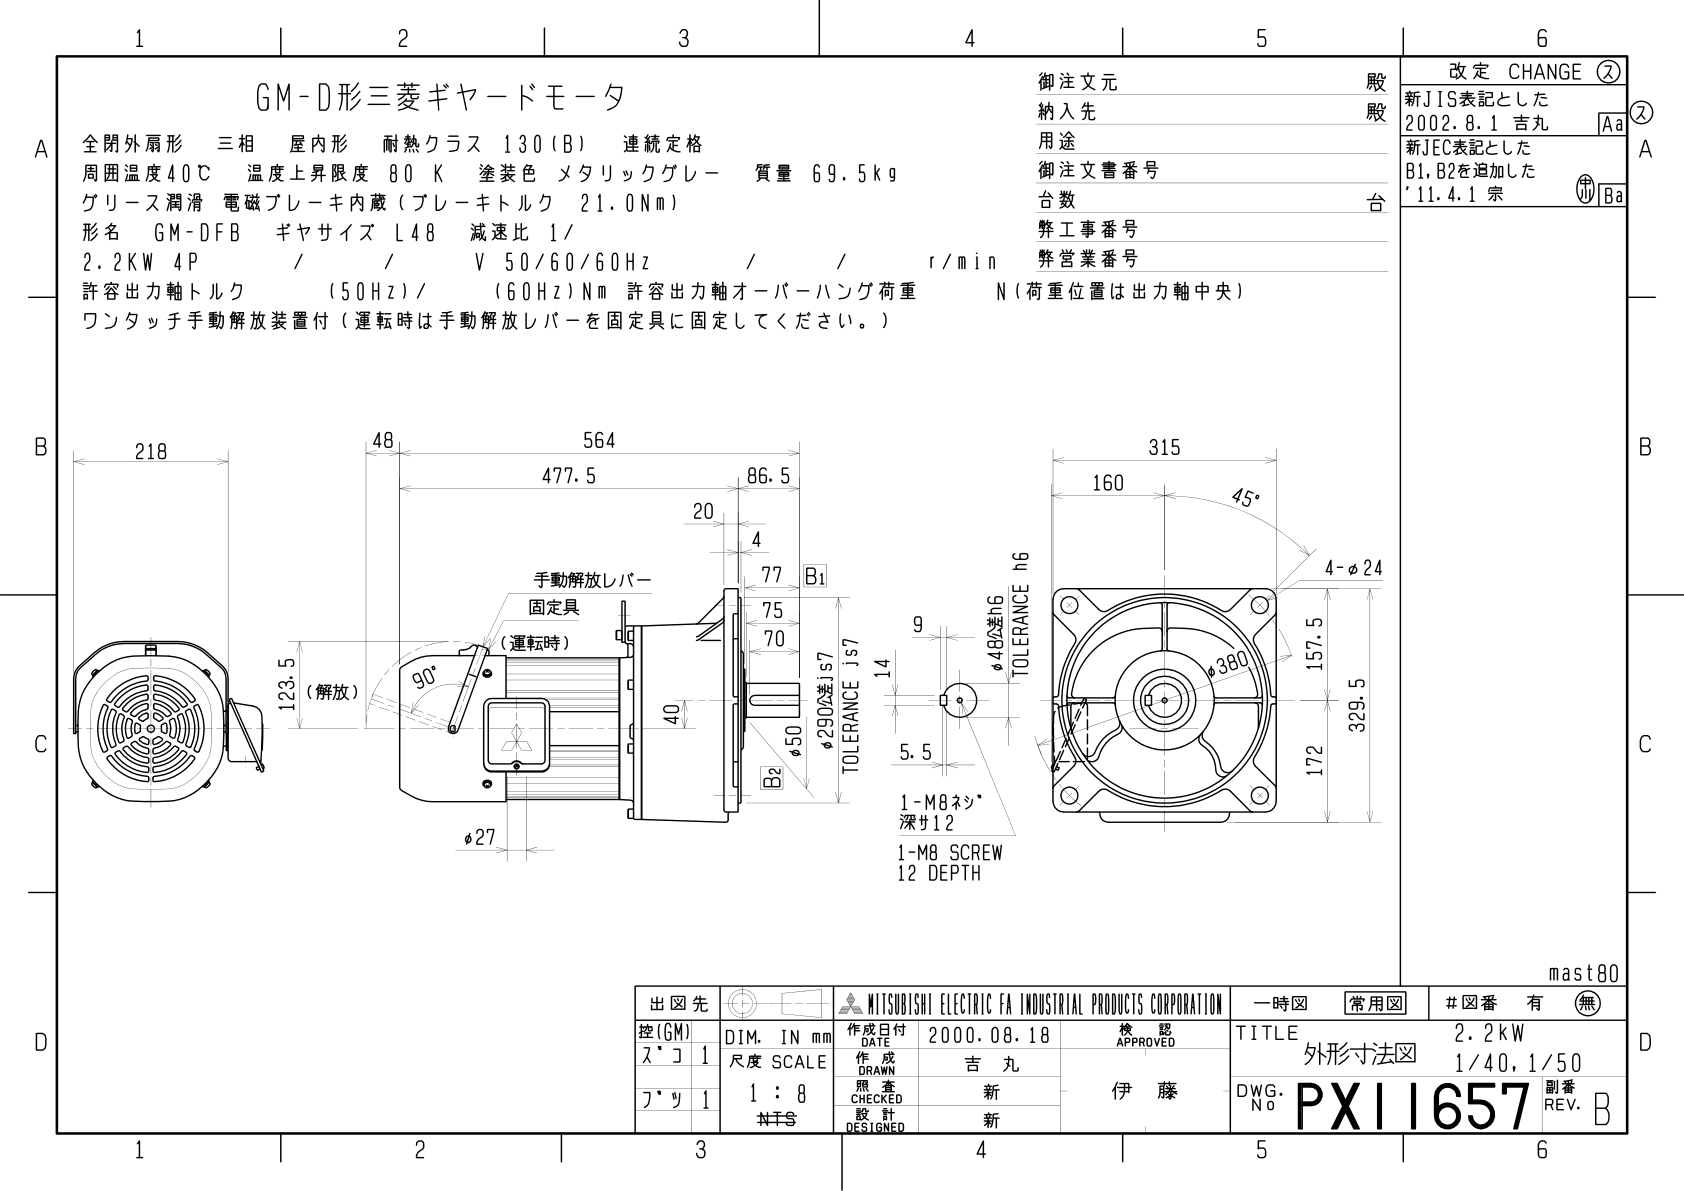GM_D_手動解放ブレーキ＿三相_フランジ: (63, 371, 1392, 910)
